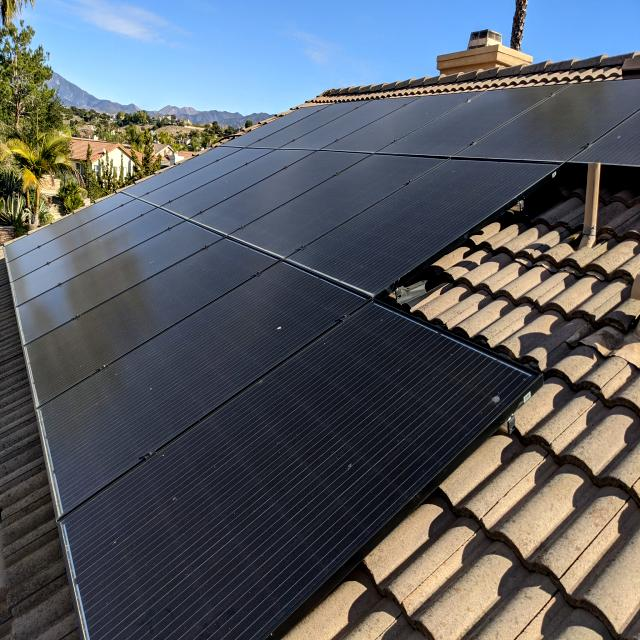dust: (171, 353, 428, 496)
